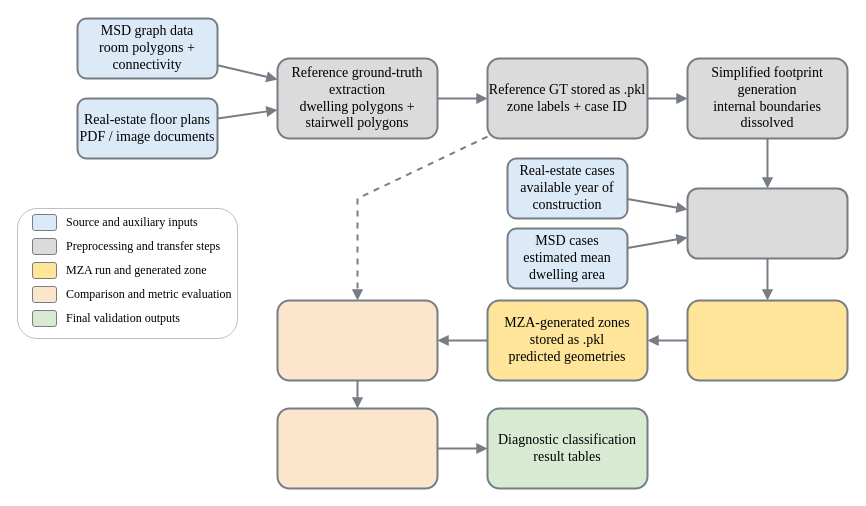
Some shapes in this 866 by 506 pixel diagram are drawn without their labels. The shapes that lost their labels are listed below. From the top down, each one's box as (x1, y1, x2, y2) in pixels, then its label:
(686, 187, 848, 259): Orientation standardisation + CityGML/LoD2 footprint replacement
(276, 299, 438, 381): Alignment + IoU-based matching reference vs predicted zones
(686, 299, 848, 381): Existing MZA workflow automatic zoning
(276, 407, 438, 489): Metric calculation zone-level + building-level outputs
